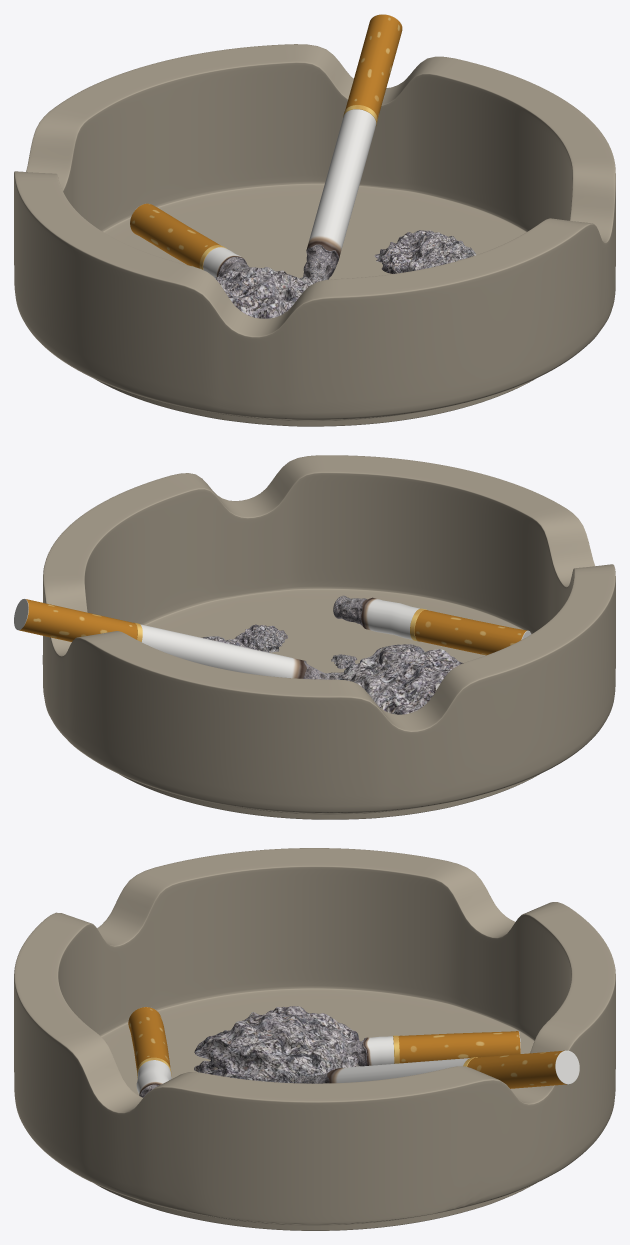
File: Ashtray.fbx
3 renders of one model, top to bottom at view 1: azimuth 30°, elevation 25°; view 2: azimuth 150°, elevation 25°; view 3: azimuth 270°, elevation 25°, orthographic. The views are drawn at different scales.
Parts seen in each view (by area): view 1: tray, cigarette1, cigarette2, Ash1, Ash2; view 2: tray, cigarette1, cigarette3, Ash1, Ash3; view 3: tray, Ash1, cigarette1, cigarette2, cigarette3.
Boxes of the visible parts, bbox=[...] form: tray: bbox=[14, 44, 615, 426]; cigarette1: bbox=[303, 14, 402, 283]; cigarette2: bbox=[130, 203, 248, 277]; Ash1: bbox=[214, 267, 313, 318]; Ash2: bbox=[374, 230, 476, 273]; tray: bbox=[42, 455, 615, 819]; cigarette1: bbox=[14, 598, 343, 679]; cigarette3: bbox=[333, 595, 531, 655]; Ash1: bbox=[338, 644, 463, 714]; Ash3: bbox=[234, 624, 287, 652]; tray: bbox=[14, 848, 615, 1230]; Ash1: bbox=[194, 1006, 359, 1082]; cigarette1: bbox=[294, 1050, 579, 1088]; cigarette2: bbox=[347, 1031, 520, 1066]; cigarette3: bbox=[128, 1007, 171, 1097].
Size of the model in its own units: 4.41 by 1.29 by 4.41.
